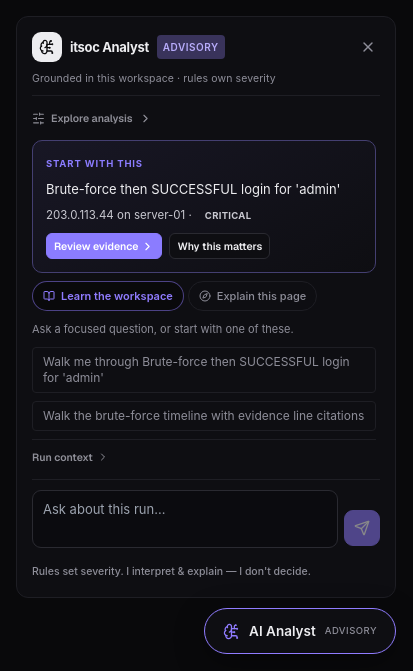
Test case: AI Copilot Right-Rail (Phase 3) › keeps a type-and-send chat box pinned (not clipped under chrome)
Type "show hidden matching lines" into the text box named "Ask the AI analyst" at [185, 519], box [32, 490, 338, 548]
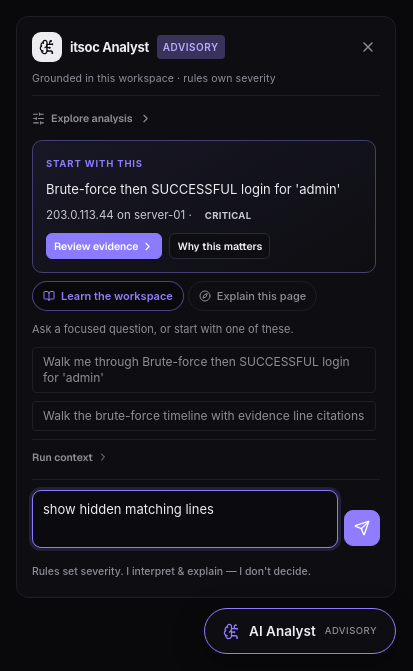
Click the button named "Send" at [362, 528], box [344, 510, 380, 546]
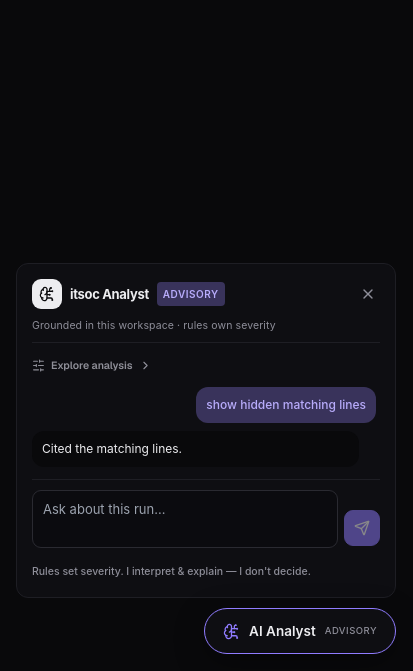
Expected: the text "Cited the matching lines." is shown, [42, 441, 182, 456]
